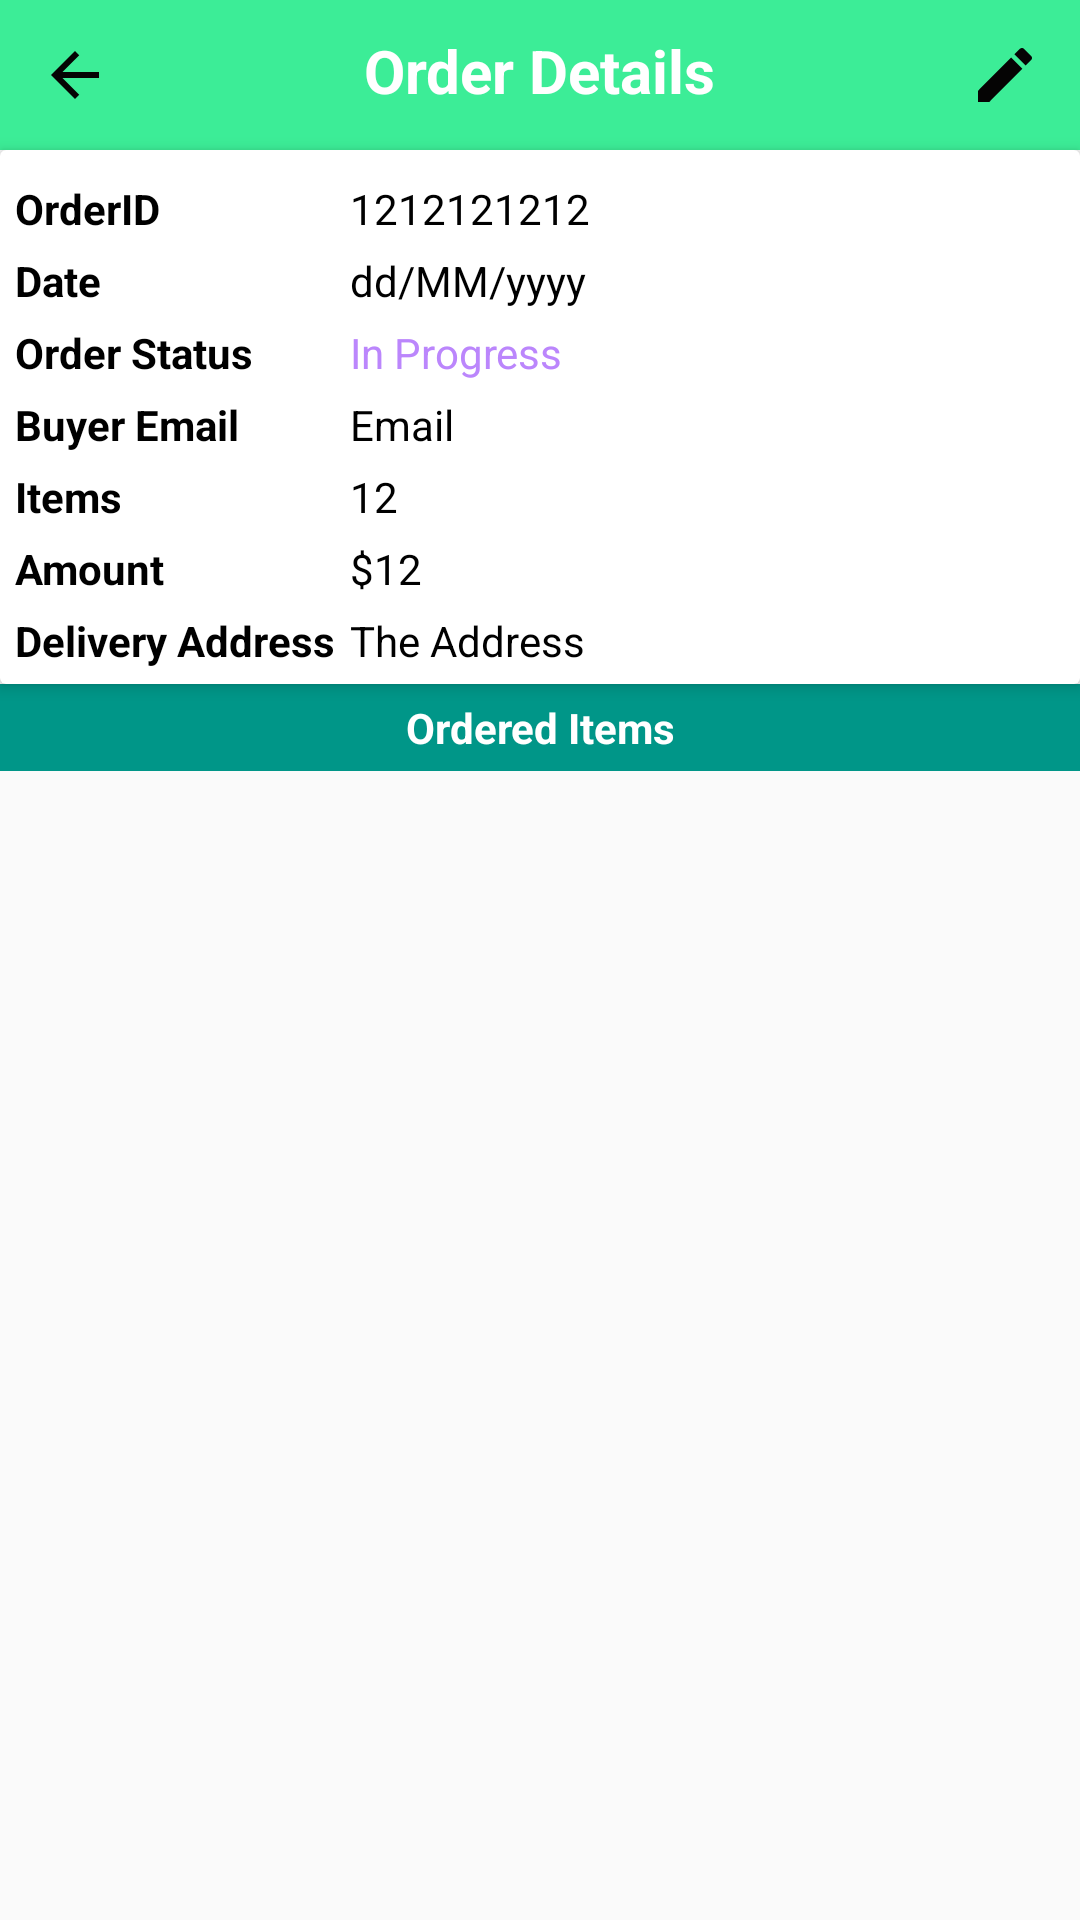

Icons on this 1080×1920 Android screen, each with the point to tap as (x,y):
back: (75,75)
edit: (1005,75)
